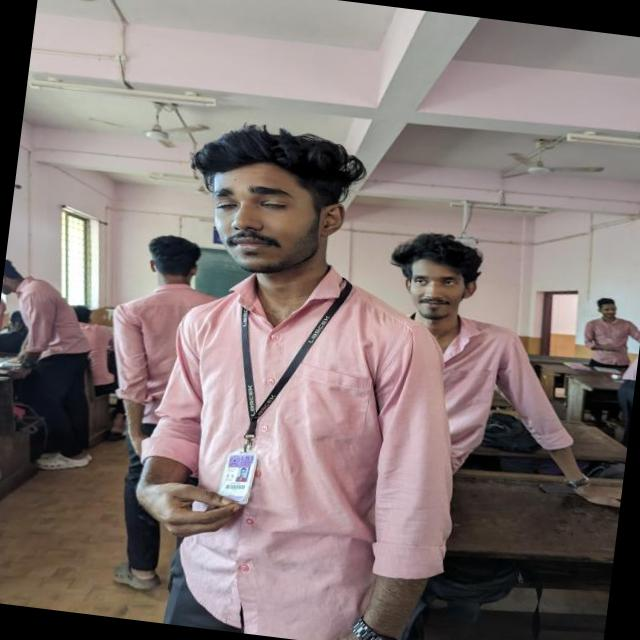id_card: (208, 280, 334, 510)
